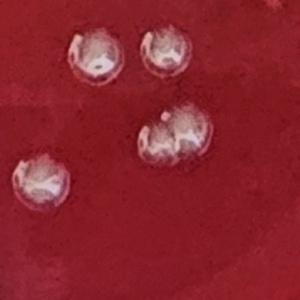colony: (61, 24, 133, 91), (6, 148, 74, 216), (159, 99, 224, 167), (138, 20, 197, 82), (130, 117, 185, 171)
